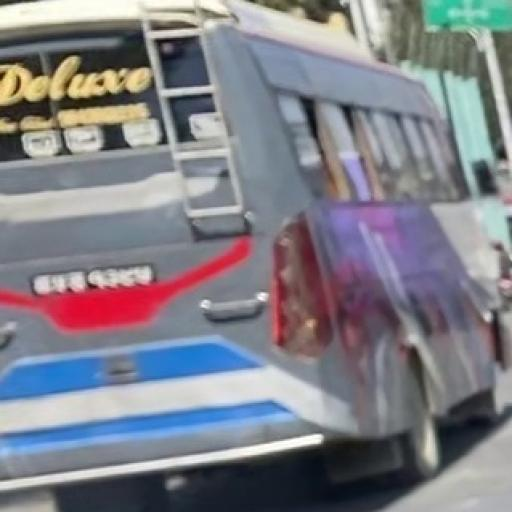license_plate: (26, 259, 159, 301)
